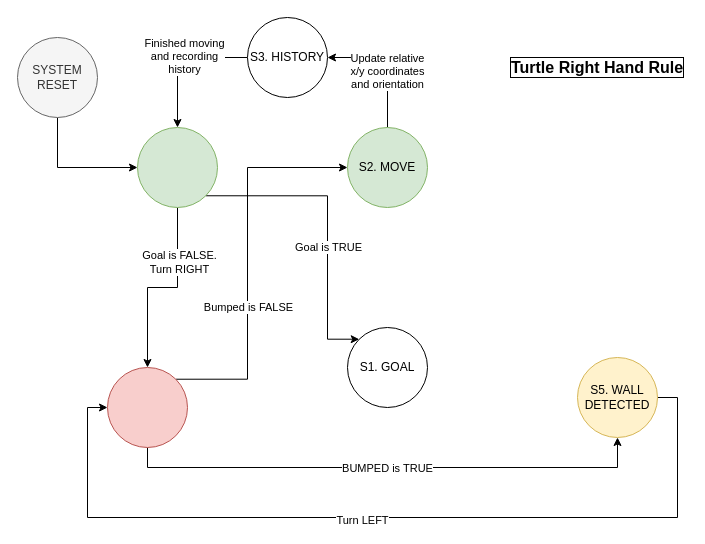
This 705x544 diagram has some shape labels left out. Here are the shapes that lost their labels. From the top down, the centre of each, then its label:
the point at 177,167: S6. AFTER MOVE
the point at 147,407: S4. IDLE
